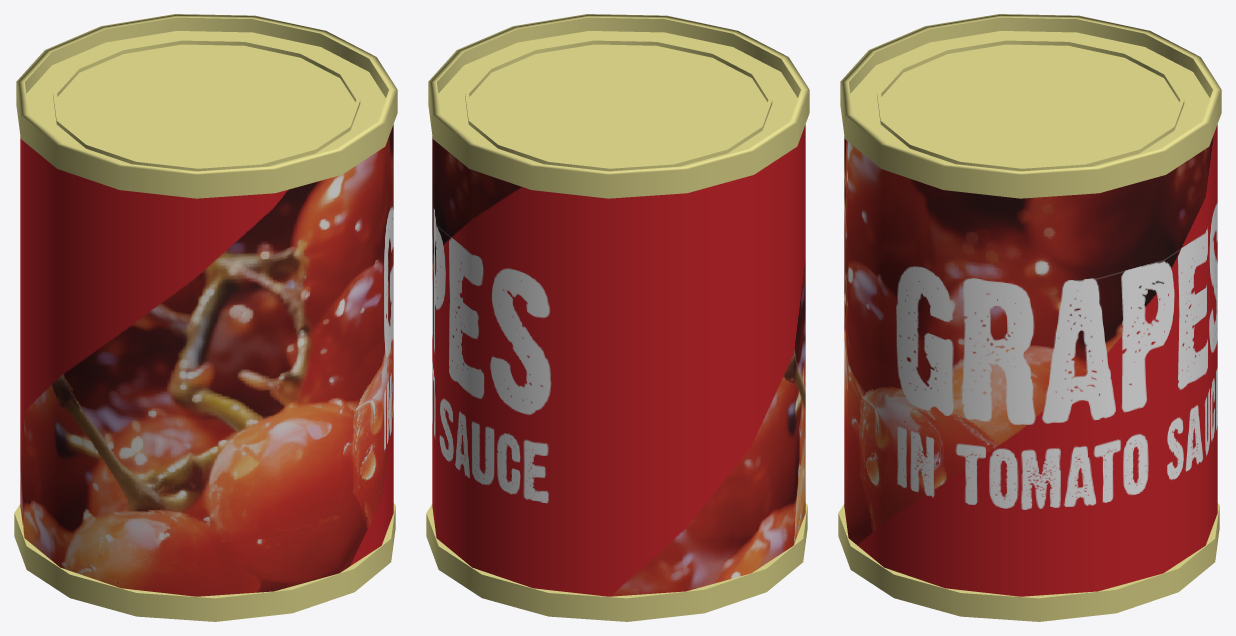
The model's file is tomaattipurkki.fbx.
3 renders of one model, left to right at view 1: azimuth 30°, elevation 25°; view 2: azimuth 150°, elevation 25°; view 3: azimuth 270°, elevation 25°, orthographic.
Visible parts, largest first — view 1: Cylinder.001; view 2: Cylinder.001; view 3: Cylinder.001.
Part boxes in pixels (x1,y1,x2,y2): Cylinder.001: [14, 14, 397, 621]; Cylinder.001: [426, 14, 809, 621]; Cylinder.001: [838, 14, 1221, 621].
Size of the model in its own units: 15.81 by 20.46 by 15.9.
Materials: 2 (1 with a texture image).
